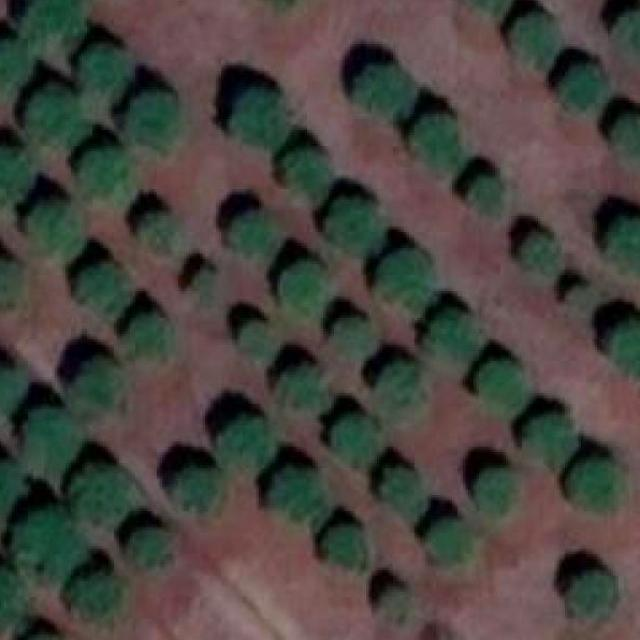Tree: (12, 506, 82, 576), (122, 87, 187, 155), (369, 248, 437, 310), (20, 200, 85, 262), (22, 82, 85, 144), (74, 42, 133, 106), (69, 459, 128, 522), (223, 90, 286, 147), (23, 406, 76, 468), (506, 12, 562, 69), (273, 361, 326, 418), (60, 565, 117, 618), (565, 456, 618, 512), (76, 353, 128, 410), (275, 256, 326, 314), (353, 60, 407, 114), (283, 146, 332, 205), (268, 465, 324, 516), (223, 203, 275, 257), (74, 151, 131, 200), (125, 312, 182, 361), (377, 358, 425, 416), (218, 415, 270, 468), (173, 465, 226, 516), (425, 313, 477, 364), (323, 412, 377, 461), (22, 0, 82, 44), (323, 200, 377, 248), (559, 62, 608, 114), (329, 310, 380, 359), (426, 517, 472, 570), (477, 358, 530, 404), (511, 221, 557, 273), (76, 261, 122, 312), (417, 114, 458, 167), (124, 522, 170, 568), (323, 525, 372, 568), (600, 315, 640, 366), (474, 466, 516, 514), (525, 414, 568, 460), (178, 259, 219, 307), (0, 562, 26, 632), (0, 143, 33, 197), (468, 176, 509, 219), (567, 570, 608, 613), (0, 255, 30, 312), (608, 213, 640, 264), (0, 458, 30, 511), (388, 466, 423, 509), (141, 210, 176, 252), (0, 42, 26, 95), (608, 112, 640, 154), (0, 361, 26, 412), (613, 6, 640, 49), (240, 321, 272, 353), (377, 584, 409, 616), (461, 0, 509, 15), (562, 286, 590, 305), (15, 631, 69, 640)
